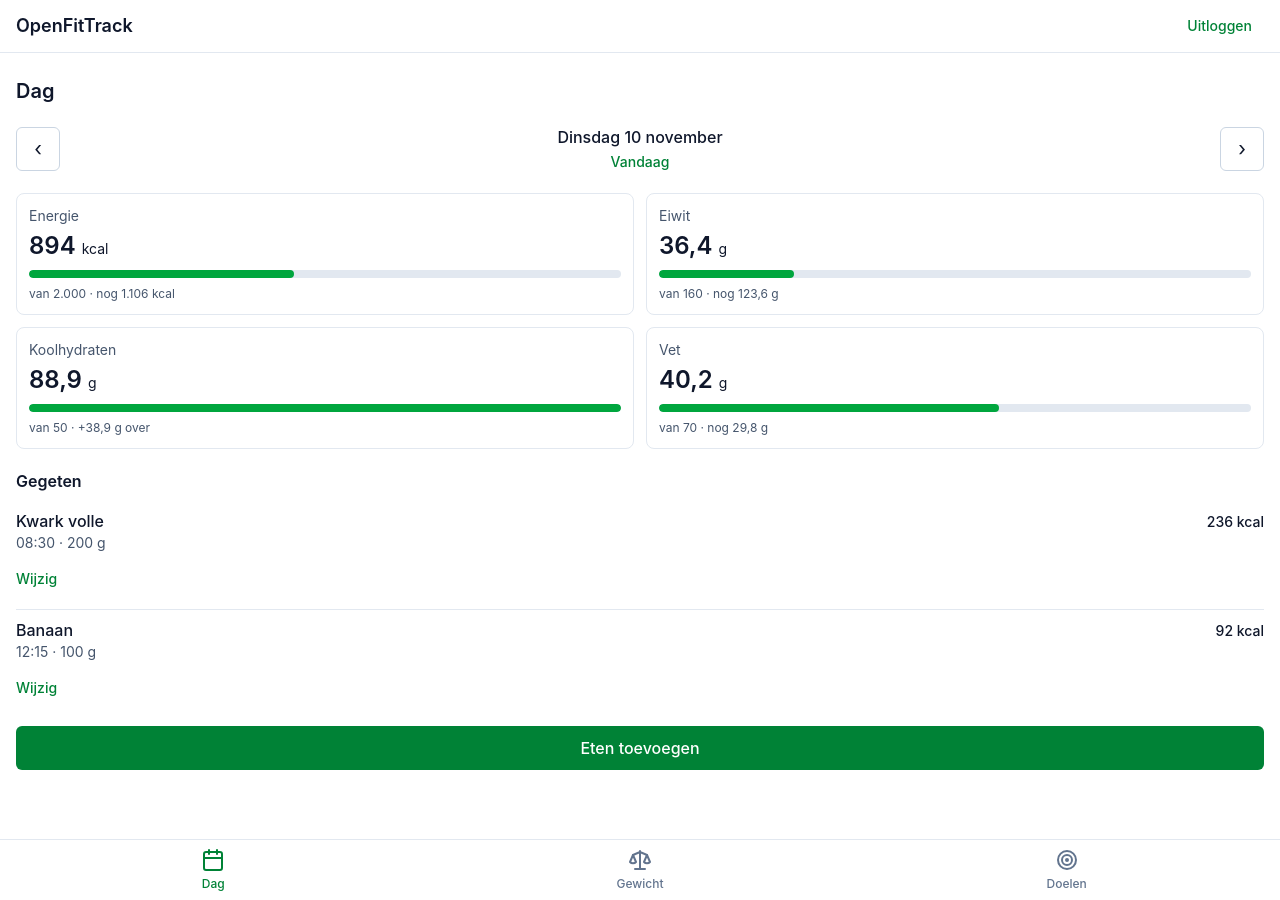
adding food › opens from the day page for the day that is shown
Click the link "Eten toevoegen" at (640, 748), box [16,726,1264,770]
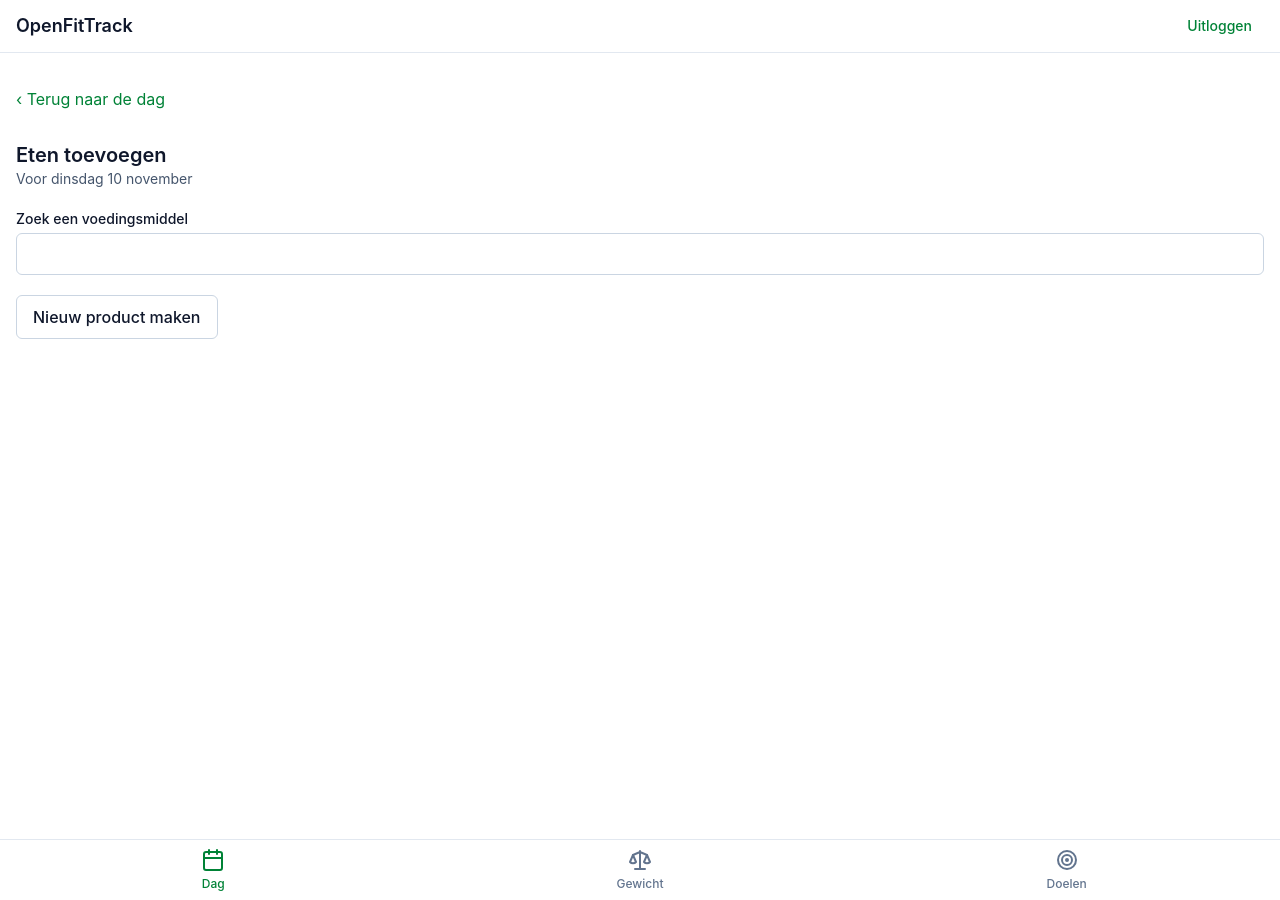
Now the text "Voor dinsdag 10 november" is shown, box [16,170,192,187]
